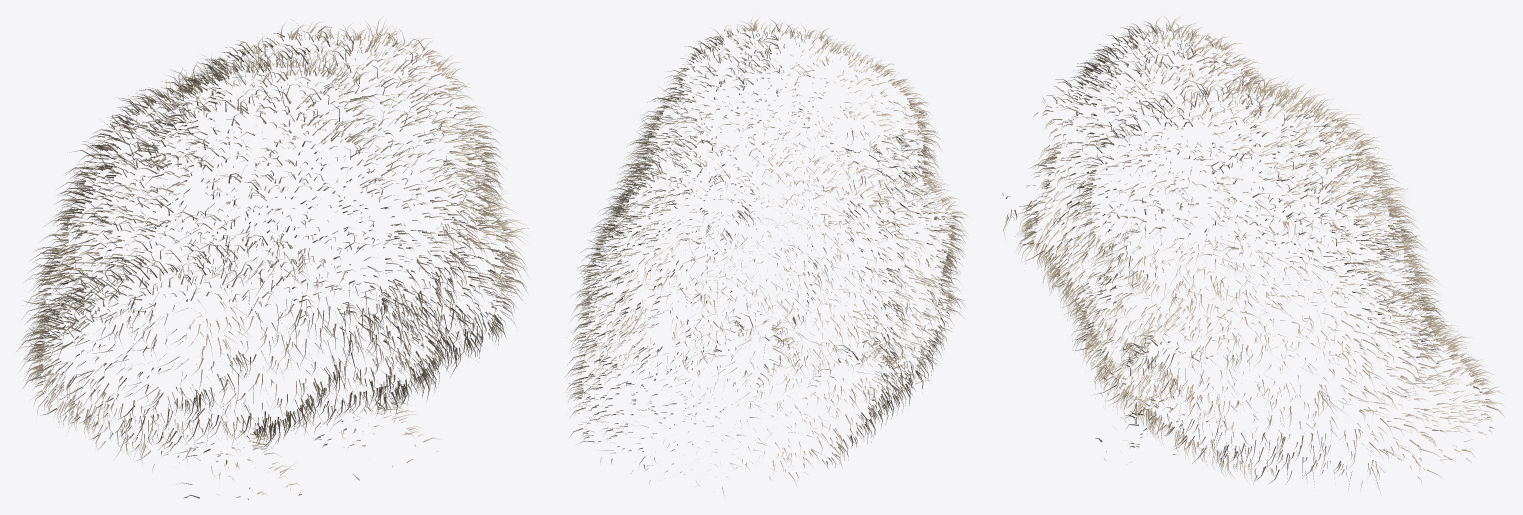
File: down-layer-ART_UNAPPROVED.glb
3 views of the same model, side by side, from view 1: azimuth 30°, elevation 25°; view 2: azimuth 150°, elevation 25°; view 3: azimuth 270°, elevation 25° (orthographic). The views are drawn at different scales.
Bounding box in the file's own units: 1.77 × 1.72 × 1.98.
